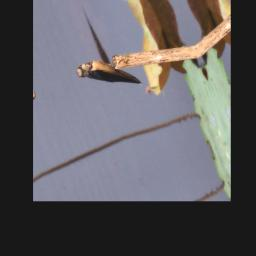Swallow: (74, 42, 144, 108)
